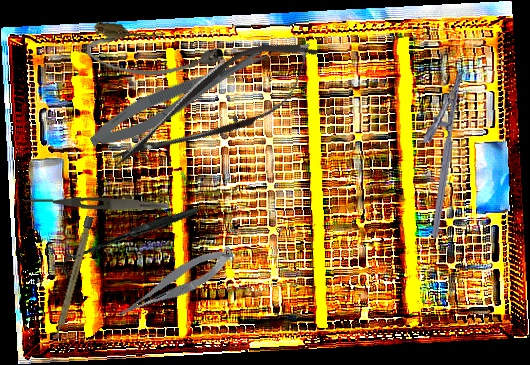Cannula: (84, 19, 226, 88)
Dressing Forceps: (21, 194, 170, 213)
Hook Surgical: (60, 173, 199, 309)
Micro Scissor: (96, 19, 334, 193), (83, 38, 279, 157), (110, 242, 240, 323)
Needle Holder: (407, 64, 466, 239)
Scalpel Handle: (53, 215, 94, 341)
